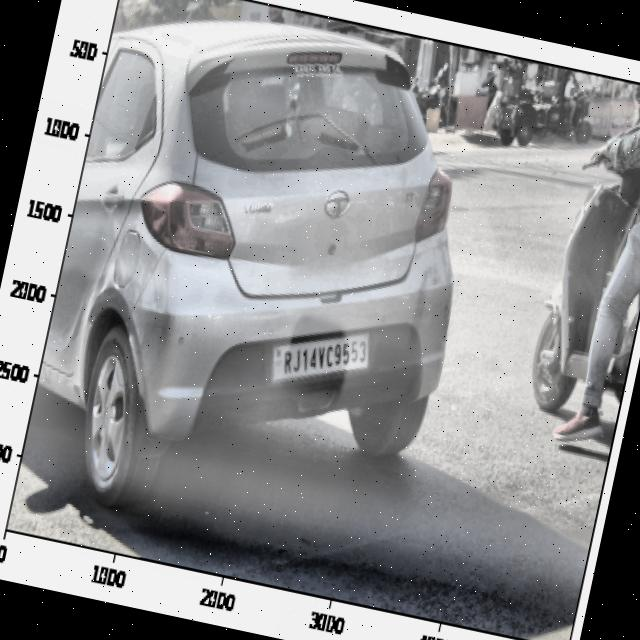license_plate: (278, 314, 375, 393)
